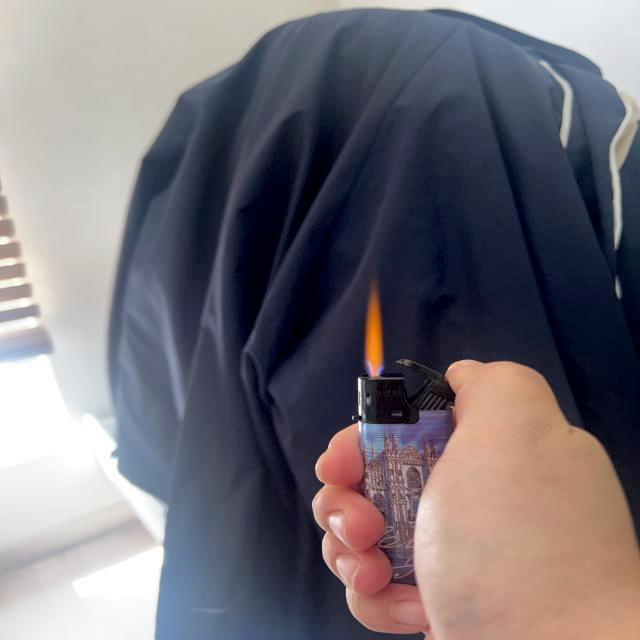fire: (364, 283, 390, 373)
